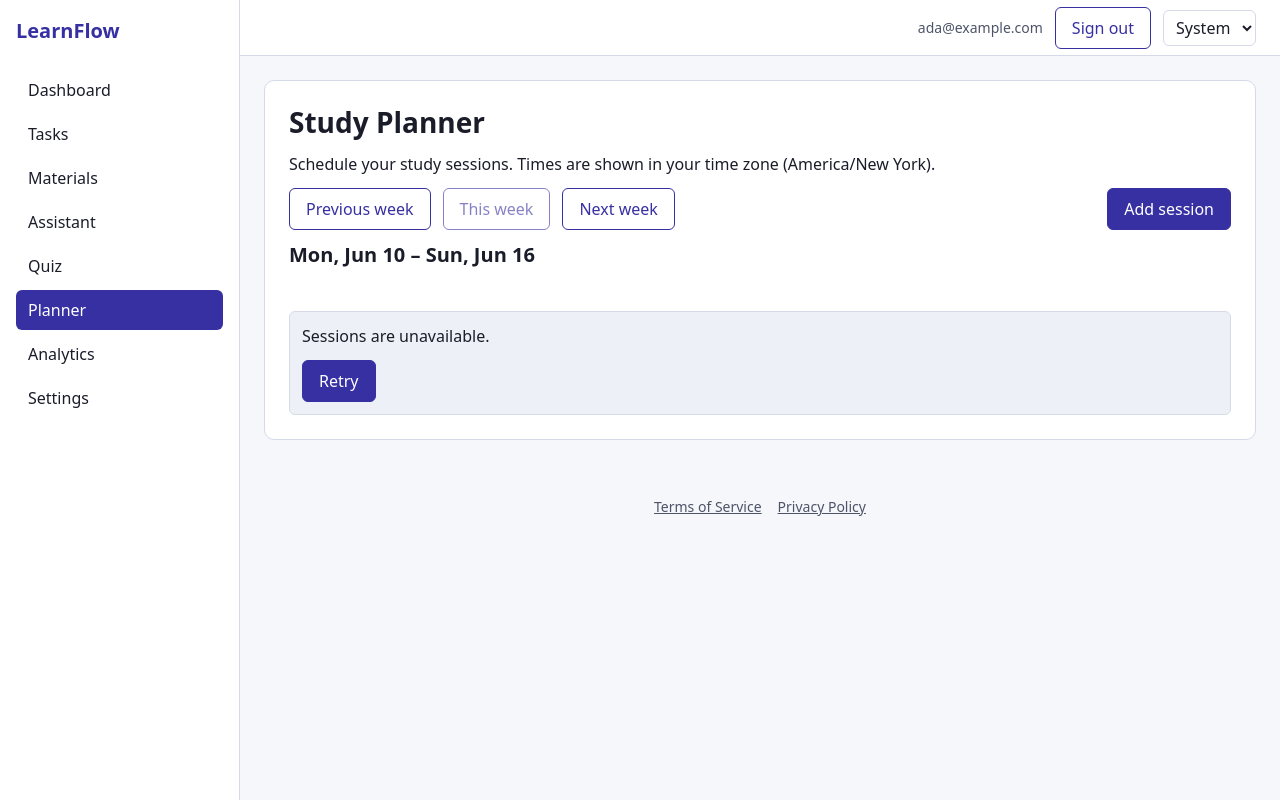
Scenario: planner: empty and failing states › shows an error with a retry when the sessions cannot be loaded
The width and height of the screenshot is (1280, 800).
Expected: the element that starts with "Study Planner" is shown, [240, 56, 1279, 480]
Expected: the heading "Study Planner" is shown, [289, 103, 485, 141]
Click the button "Retry" at (339, 381), box [302, 360, 376, 402]
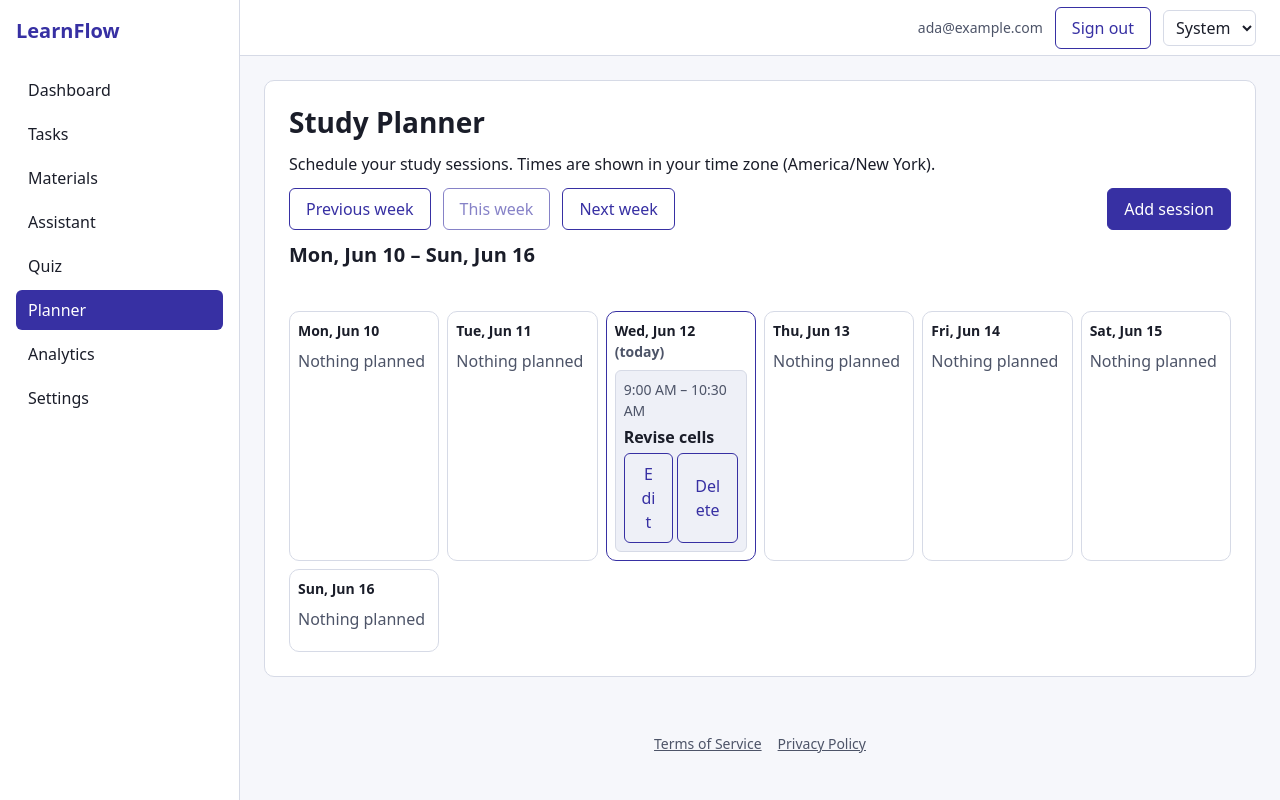
Now the text "Revise cells" is shown, box [624, 426, 714, 448]
